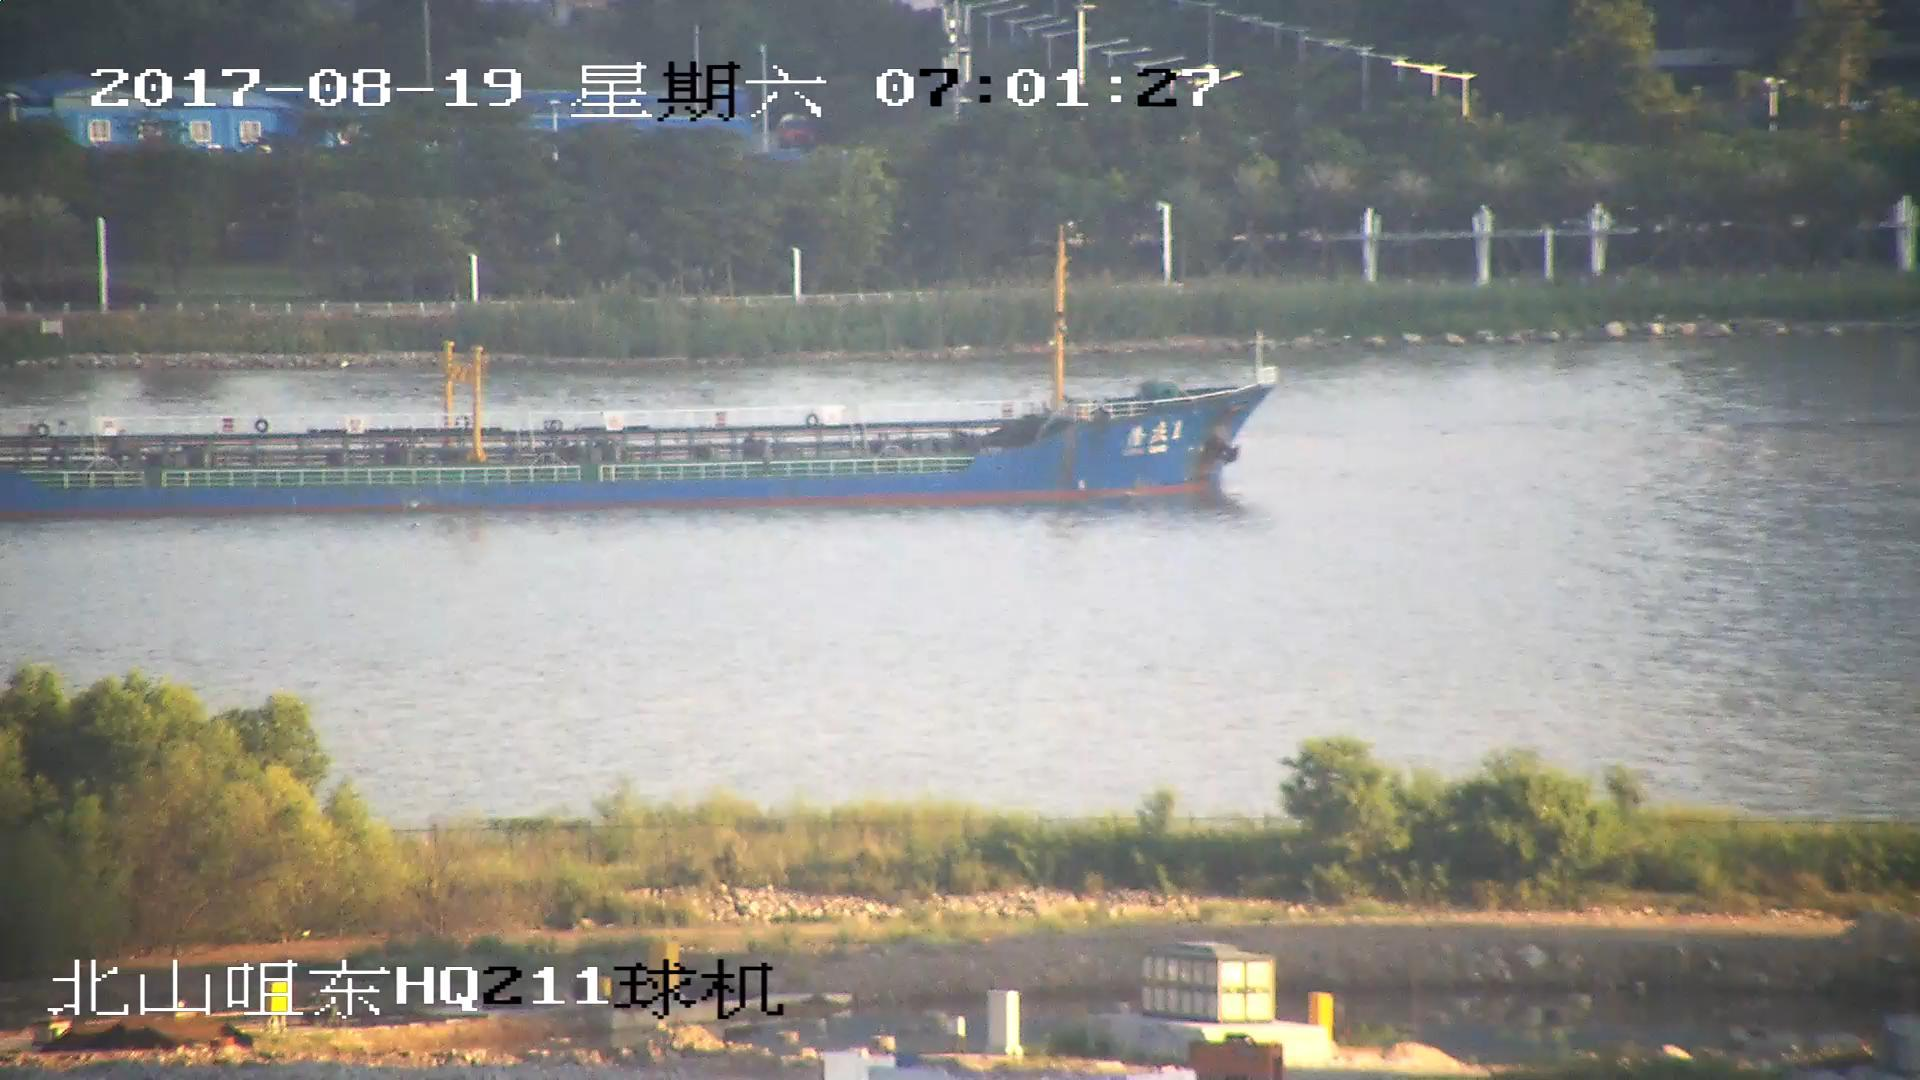Ship: (3, 237, 1266, 502)
